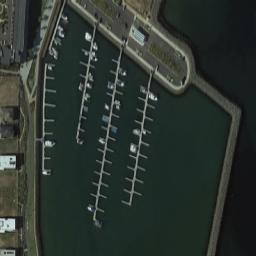boat: (129, 143, 138, 152), (149, 92, 158, 100), (84, 29, 91, 39), (57, 27, 64, 37), (93, 219, 101, 227), (132, 126, 140, 133), (106, 81, 114, 88), (118, 67, 126, 74), (86, 204, 94, 211), (51, 45, 58, 53), (44, 139, 55, 144), (97, 137, 105, 143), (142, 128, 148, 135), (140, 86, 146, 93), (104, 103, 111, 109), (114, 103, 120, 110), (117, 79, 124, 85), (91, 49, 97, 56), (62, 11, 68, 18), (58, 23, 64, 30), (90, 55, 98, 60), (86, 81, 92, 87), (92, 44, 98, 50), (62, 17, 68, 23), (47, 64, 53, 70), (42, 170, 51, 174), (76, 138, 83, 143), (87, 75, 94, 80), (114, 98, 120, 103), (84, 96, 90, 101), (77, 86, 84, 90), (85, 92, 91, 96), (52, 54, 58, 58), (54, 39, 58, 44), (48, 50, 53, 54), (79, 81, 83, 85), (89, 70, 93, 74), (84, 50, 88, 54), (94, 41, 98, 44)
